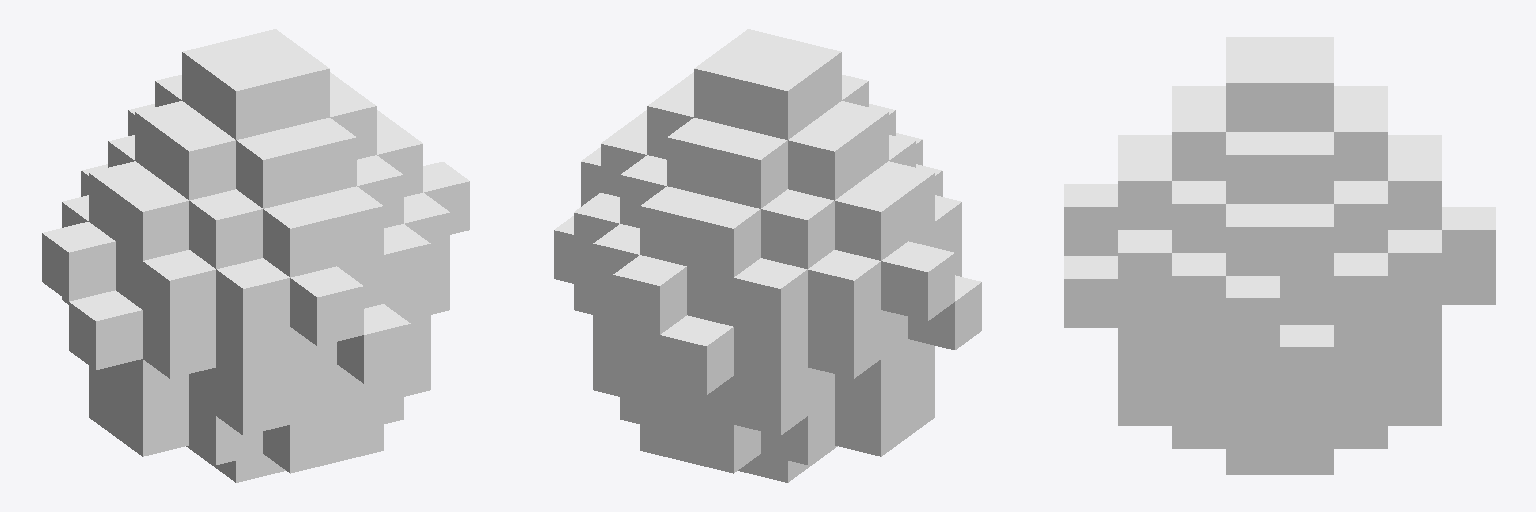
The model's file is Gem_01.obj.
The picture shows the model from 3 angles: view 1: azimuth 30°, elevation 25°; view 2: azimuth 150°, elevation 25°; view 3: azimuth 270°, elevation 25°; orthographic projection.
Parts seen in each view (by area): view 1: Gem_01; view 2: Gem_01; view 3: Gem_01.
Part boxes in pixels (x1,y1,x2,y2): Gem_01: (42, 29, 469, 482); Gem_01: (554, 29, 981, 482); Gem_01: (1064, 37, 1495, 474).
Bounding box in the file's own units: 8 × 8 × 8.